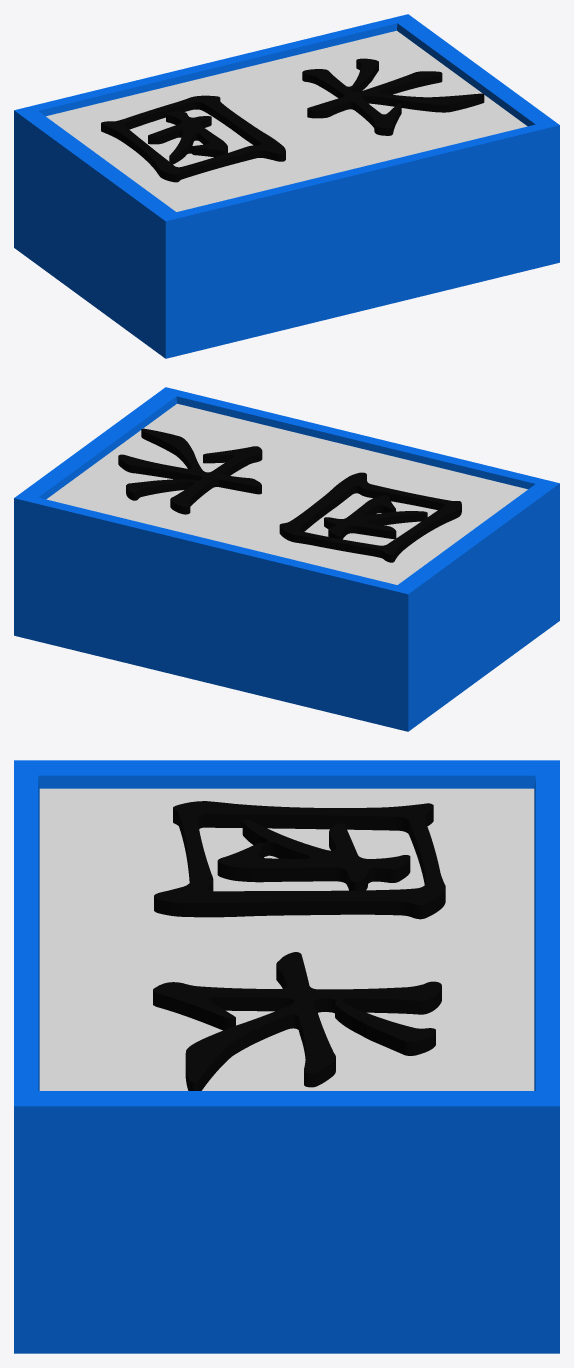
Rendered from 5_tuan_zhang.fbx.
3 views of the same model, one above another, from view 1: azimuth 30°, elevation 25°; view 2: azimuth 150°, elevation 25°; view 3: azimuth 270°, elevation 25° (orthographic). The views are drawn at different scales.
Parts seen in each view (by area): view 1: Cube, 文本; view 2: Cube, 文本; view 3: Cube, 文本.
Boxes of the visible parts, box(x1,y1,x2,y2) form: Cube: box(14, 14, 559, 358); 文本: box(101, 58, 484, 182); Cube: box(14, 387, 559, 731); 文本: box(118, 428, 461, 562); Cube: box(14, 760, 559, 1353); 文本: box(153, 801, 445, 1090).
Size of the model in its own units: 240 by 80.47 by 160.
